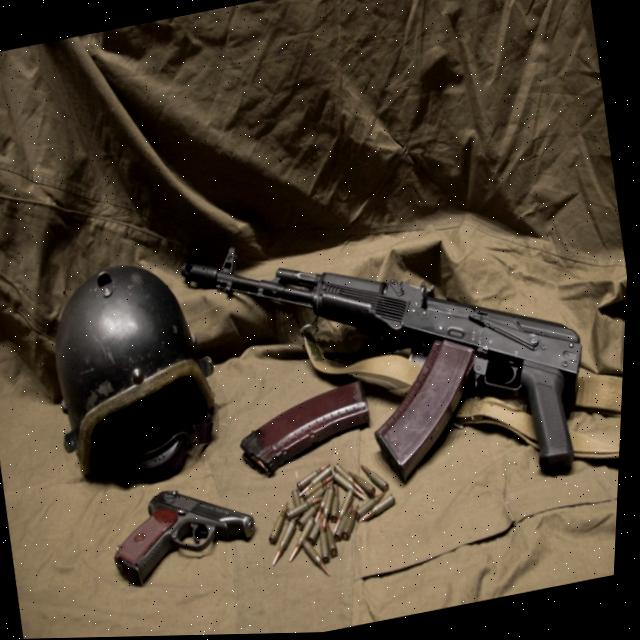firearm: (175, 187, 611, 542)
pistol: (106, 475, 267, 591)
